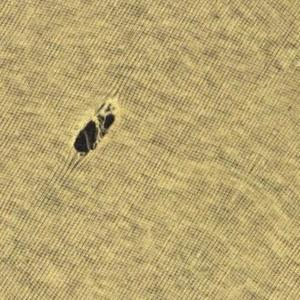hole: (70, 94, 120, 160)
